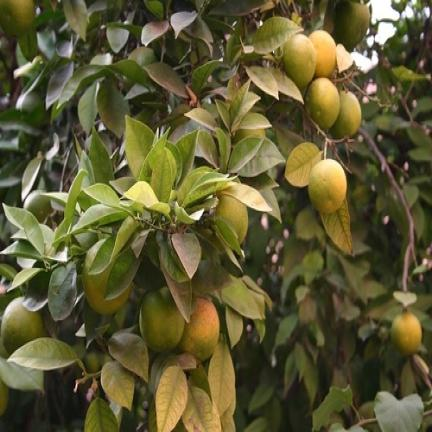oranges: (282, 30, 361, 139), (140, 287, 220, 361), (83, 240, 132, 314), (140, 287, 184, 351), (178, 297, 219, 361), (2, 297, 45, 353), (308, 159, 347, 213), (333, 0, 370, 50), (282, 34, 316, 88), (305, 79, 339, 128), (216, 194, 248, 243), (331, 92, 362, 139), (391, 311, 422, 355), (0, 0, 35, 36), (310, 30, 336, 78), (24, 190, 52, 222), (233, 128, 266, 143), (0, 379, 8, 416)
